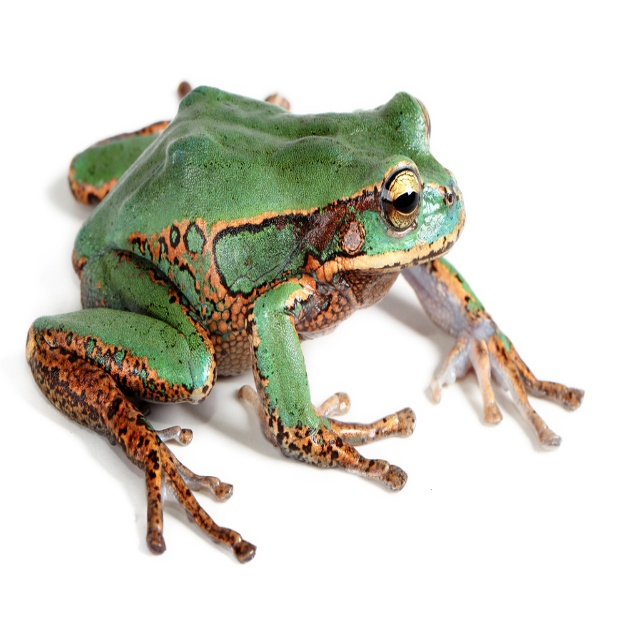Frog: (25, 88, 585, 562)
